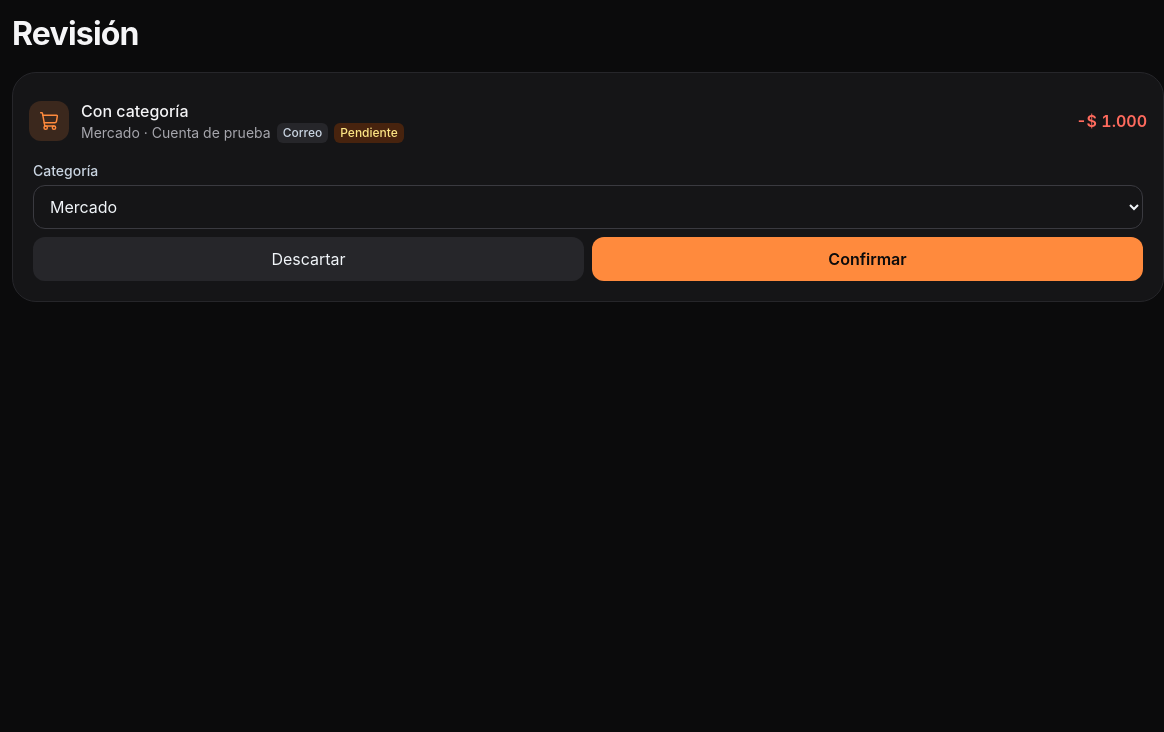
Test: review inbox › confirms without touching the movement when the category was not changed, and does not confirm if saving it fails
The width and height of the screenshot is (1164, 732).
Expected: the text "Con categoría" is shown, [81,101,188,121]
Expected: the dropdown labelled "Categoría" shows "Mercado", [33,185,1143,229]
Click the button "Confirmar".
click(868, 259)  # box [592,237,1143,281]
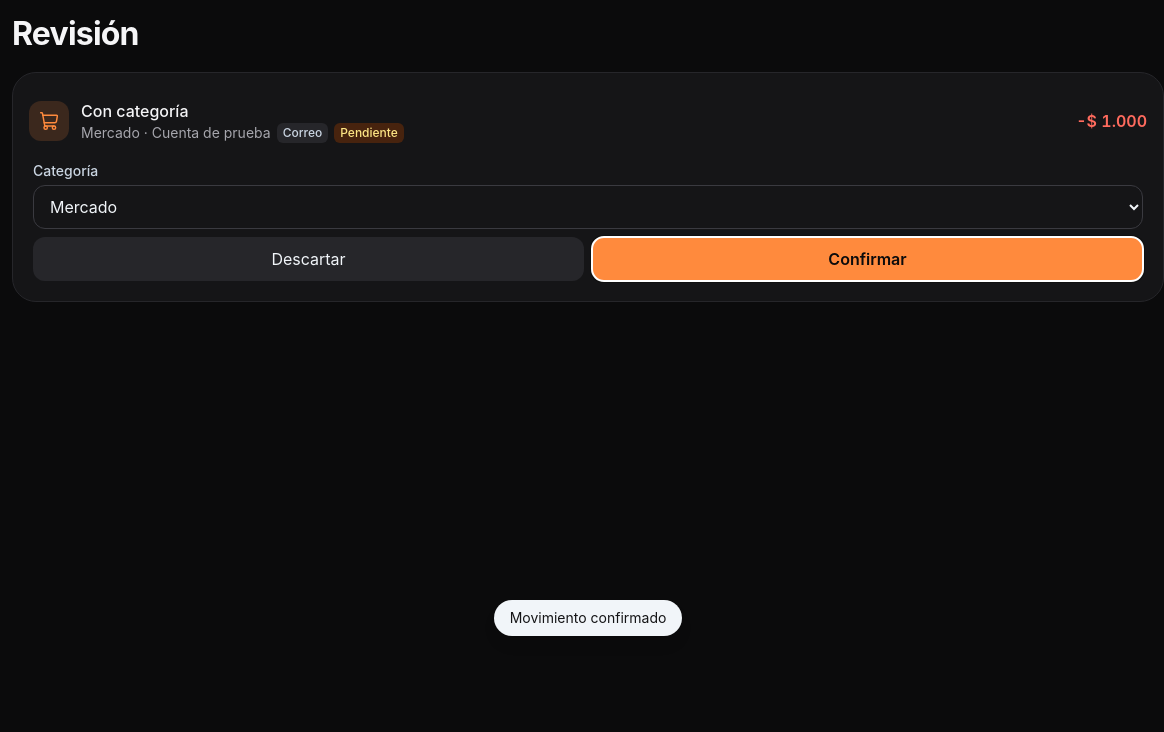
Select "Gasolina" in the dropdown labelled "Categoría" at (588,207), box [33,185,1143,229]
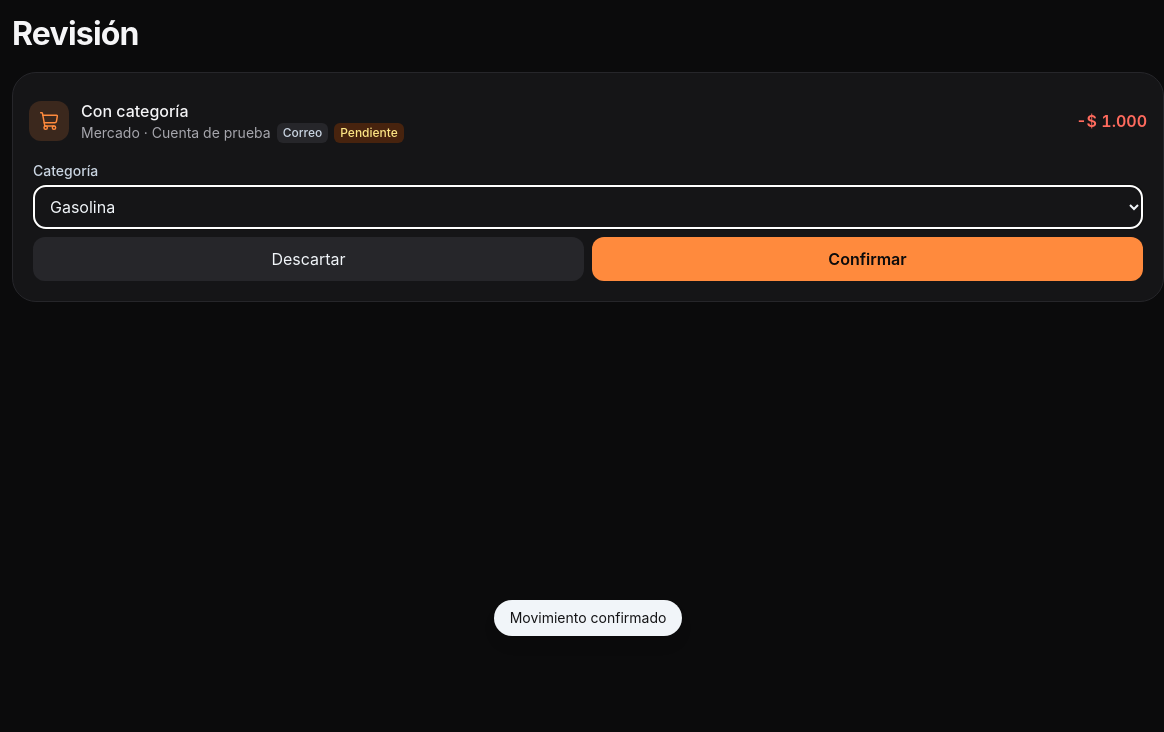
Click the button "Confirmar".
click(868, 259)  # box [592,237,1143,281]
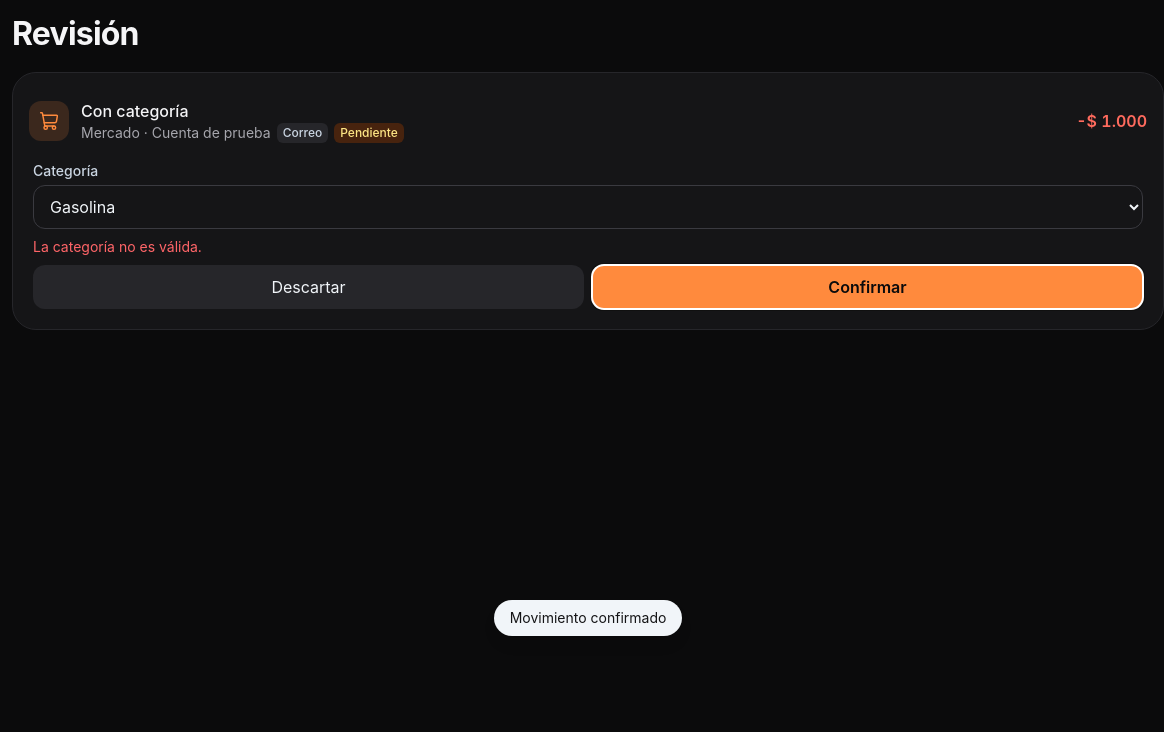
Result: the text "La categoría no es válida." is shown at [33,238,202,255]
